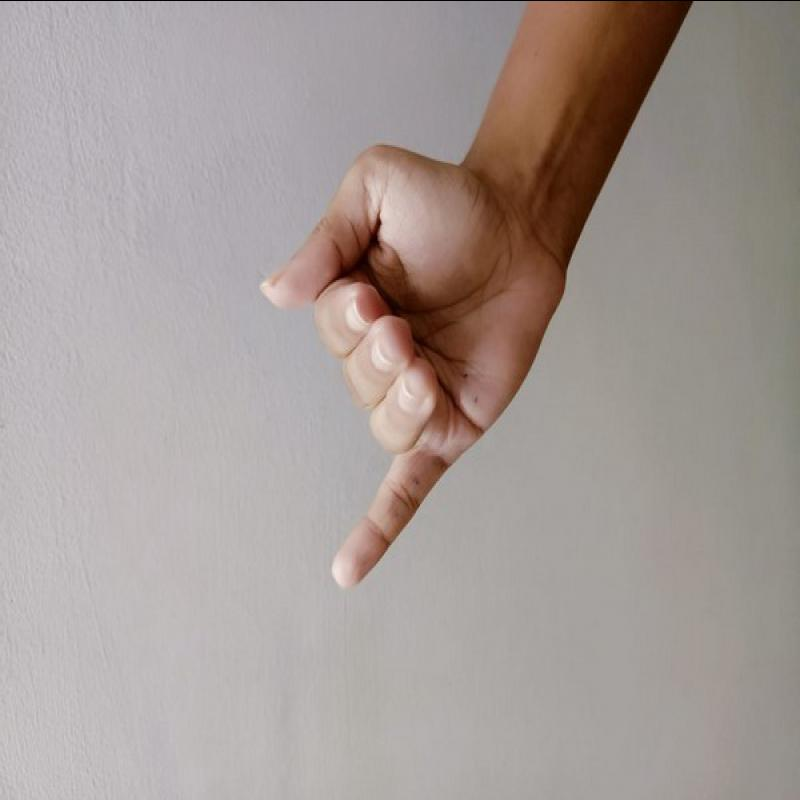Kartharee Mukham: (240, 132, 575, 596)
